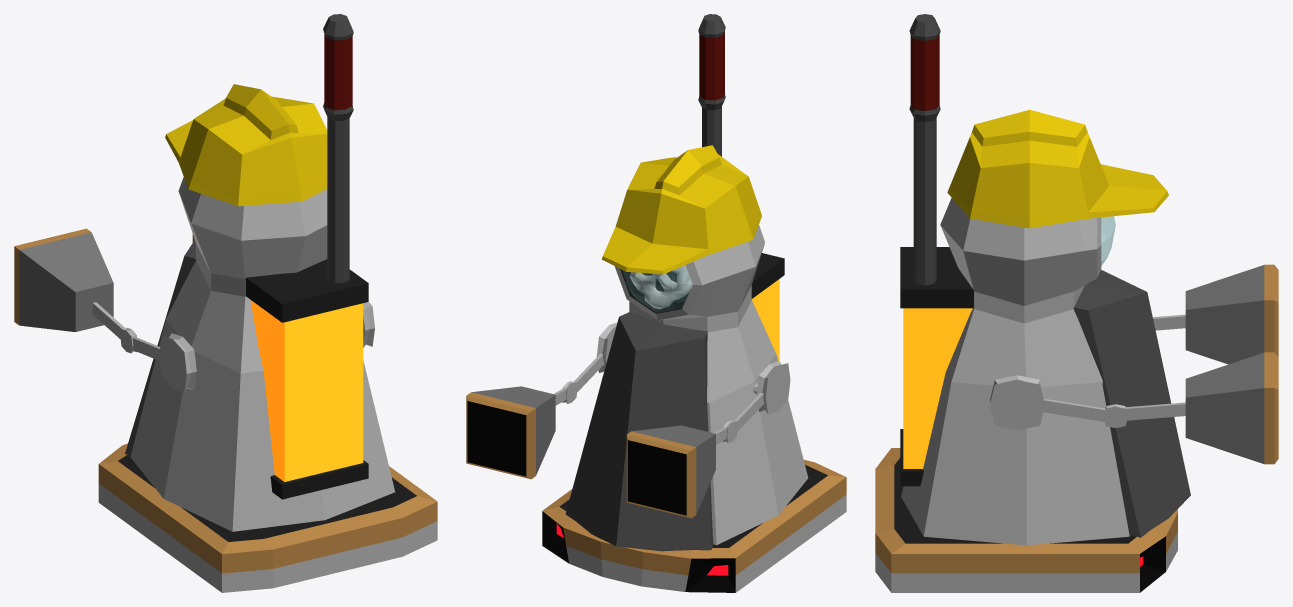
The model's file is Foreman.glb.
The picture shows the model from 3 angles, left to right: view 1: azimuth 30°, elevation 25°; view 2: azimuth 150°, elevation 25°; view 3: azimuth 270°, elevation 25°; orthographic projection. The views are drawn at different scales.
Parts seen in each view (by area): view 1: IronMaiden, WeakSpotBackpack, Base, HardHat, ArmHand, Antenna, Arm, ArmourPiece; view 2: IronMaiden, ArmourPiece, Base, HardHat, ArmHand, ArmHand.001, Antenna, FacePlate, WeakSpotBackpack, Skull, Arm; view 3: IronMaiden, Base, HardHat, ArmourPiece, WeakSpotBackpack, ArmHand.001, ArmHand, Antenna, Arm.001, ArmFirstLength.001, ArmForearm.001, FacePlate.
Boxes of the visible parts, x1=… form: IronMaiden: x1=130, y1=177, x2=394, y2=531; WeakSpotBackpack: x1=245, y1=259, x2=368, y2=499; Base: x1=98, y1=443, x2=437, y2=592; HardHat: x1=165, y1=84, x2=327, y2=206; ArmHand: x1=14, y1=228, x2=113, y2=331; Antenna: x1=323, y1=14, x2=353, y2=283; Arm: x1=159, y1=333, x2=196, y2=392; ArmourPiece: x1=125, y1=240, x2=195, y2=455; IronMaiden: x1=602, y1=225, x2=808, y2=545; ArmourPiece: x1=565, y1=312, x2=713, y2=551; Base: x1=542, y1=460, x2=846, y2=592; HardHat: x1=601, y1=145, x2=761, y2=274; ArmHand: x1=626, y1=425, x2=715, y2=518; ArmHand.001: x1=466, y1=386, x2=555, y2=479; Antenna: x1=698, y1=14, x2=725, y2=156; FacePlate: x1=623, y1=265, x2=692, y2=312; WeakSpotBackpack: x1=751, y1=253, x2=784, y2=360; Skull: x1=630, y1=265, x2=692, y2=309; Arm: x1=757, y1=361, x2=790, y2=414; IronMaiden: x1=901, y1=198, x2=1129, y2=545; Base: x1=875, y1=448, x2=1177, y2=592; HardHat: x1=947, y1=109, x2=1168, y2=228; ArmourPiece: x1=1073, y1=270, x2=1190, y2=537; WeakSpotBackpack: x1=900, y1=247, x2=973, y2=486; ArmHand.001: x1=1185, y1=352, x2=1278, y2=464; ArmHand: x1=1185, y1=264, x2=1278, y2=364; Antenna: x1=909, y1=14, x2=940, y2=285; Arm.001: x1=990, y1=375, x2=1044, y2=430; ArmFirstLength.001: x1=1043, y1=398, x2=1105, y2=421; ArmForearm.001: x1=1124, y1=402, x2=1185, y2=420; FacePlate: x1=1101, y1=216, x2=1115, y2=265.
Bounding box in the file's own units: 0.5863 × 1.18 × 0.8108.
